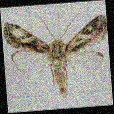Spodoptera litura: (3, 11, 108, 98)
